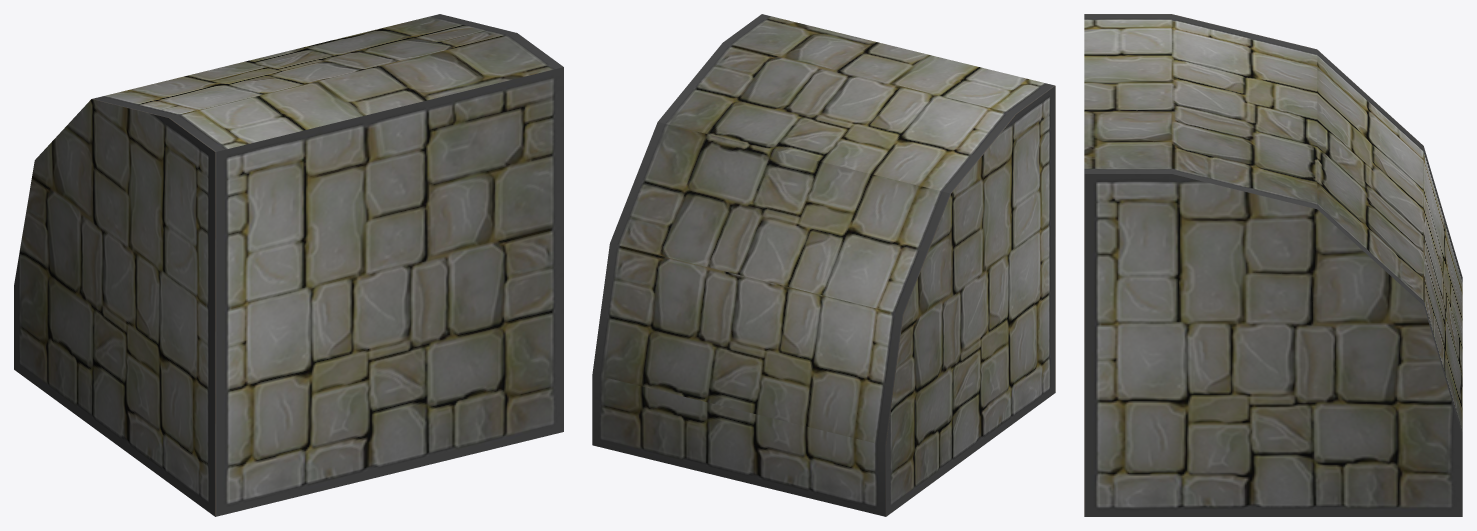
Rendered from POL0410006.fbx.
3 renders of one model, left to right at view 1: azimuth 30°, elevation 25°; view 2: azimuth 150°, elevation 25°; view 3: azimuth 270°, elevation 25°, orthographic. The views are drawn at different scales.
Parts seen in each view (by area): view 1: smPOL0410006; view 2: smPOL0410006; view 3: smPOL0410006.
Boxes of the visible parts, x1,y1,x2,y2 form: smPOL0410006: [14, 14, 563, 516]; smPOL0410006: [592, 14, 1055, 516]; smPOL0410006: [1084, 14, 1462, 516].
Bounding box in the file's own units: 161 × 161 × 161.
1 material, 1 textured.
